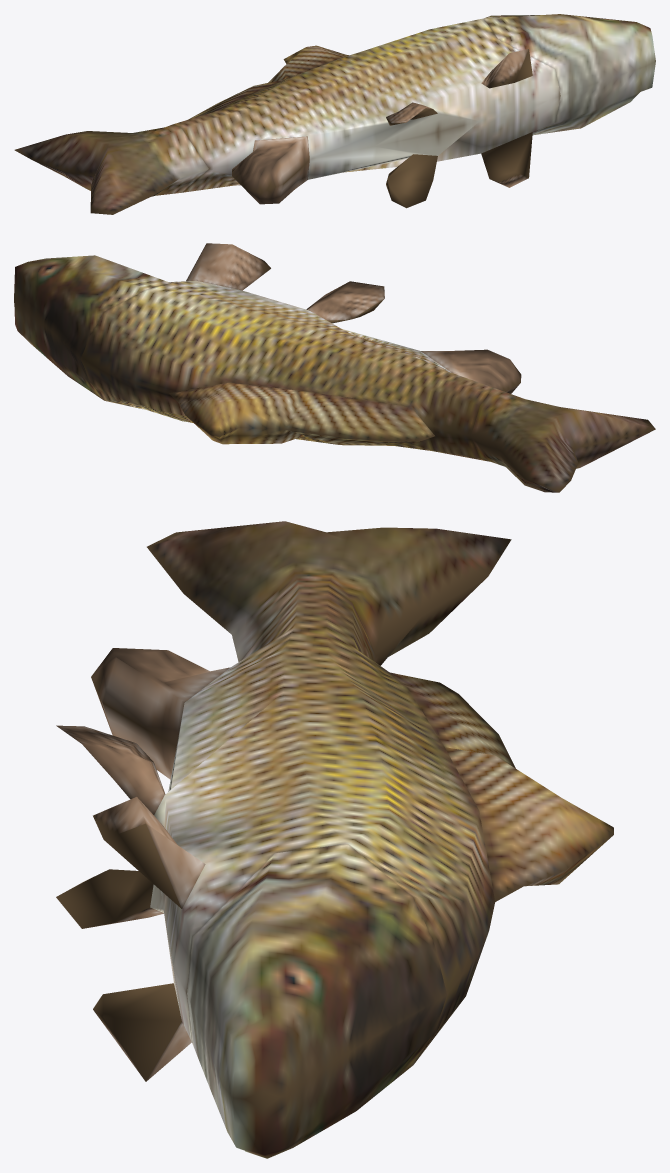
Rendered from Carp.fbx.
3 renders of one model, top to bottom at view 1: azimuth 30°, elevation 25°; view 2: azimuth 150°, elevation 25°; view 3: azimuth 270°, elevation 25°, orthographic. The views are drawn at different scales.
Visible parts, largest first — view 1: carp; view 2: carp; view 3: carp.
Part boxes in pixels (bbox=[...]): carp: bbox=[14, 14, 655, 214]; carp: bbox=[14, 243, 655, 492]; carp: bbox=[56, 521, 613, 1158].
Bounding box in the file's own units: 0.3626 × 0.0801 × 0.1504.
